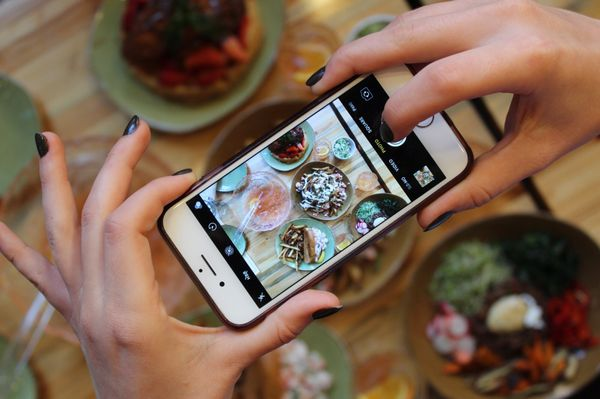curry: (504, 232, 579, 297)
